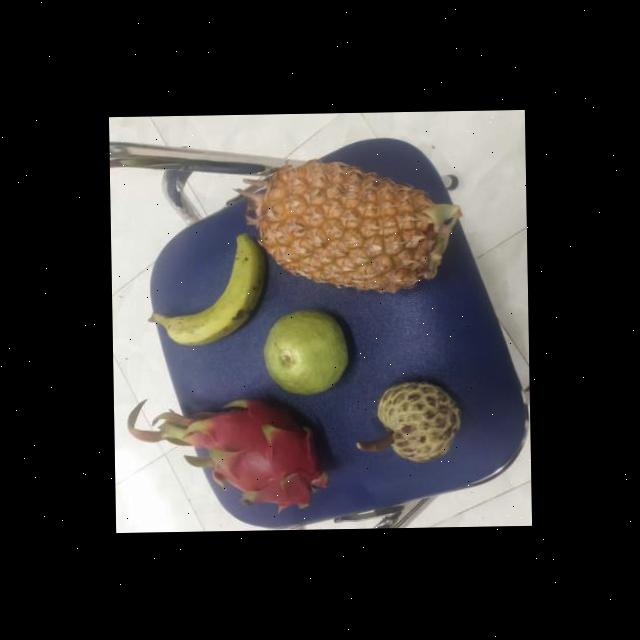Sakya fruit: (374, 372, 461, 462)
banana: (155, 229, 265, 344)
guava: (263, 302, 349, 393)
pineapple: (256, 152, 443, 294)
pitaya: (195, 391, 329, 506)
